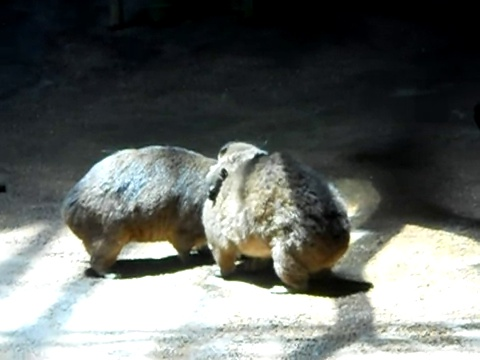Rock Hyrex: (202, 139, 356, 300), (65, 144, 222, 277)
